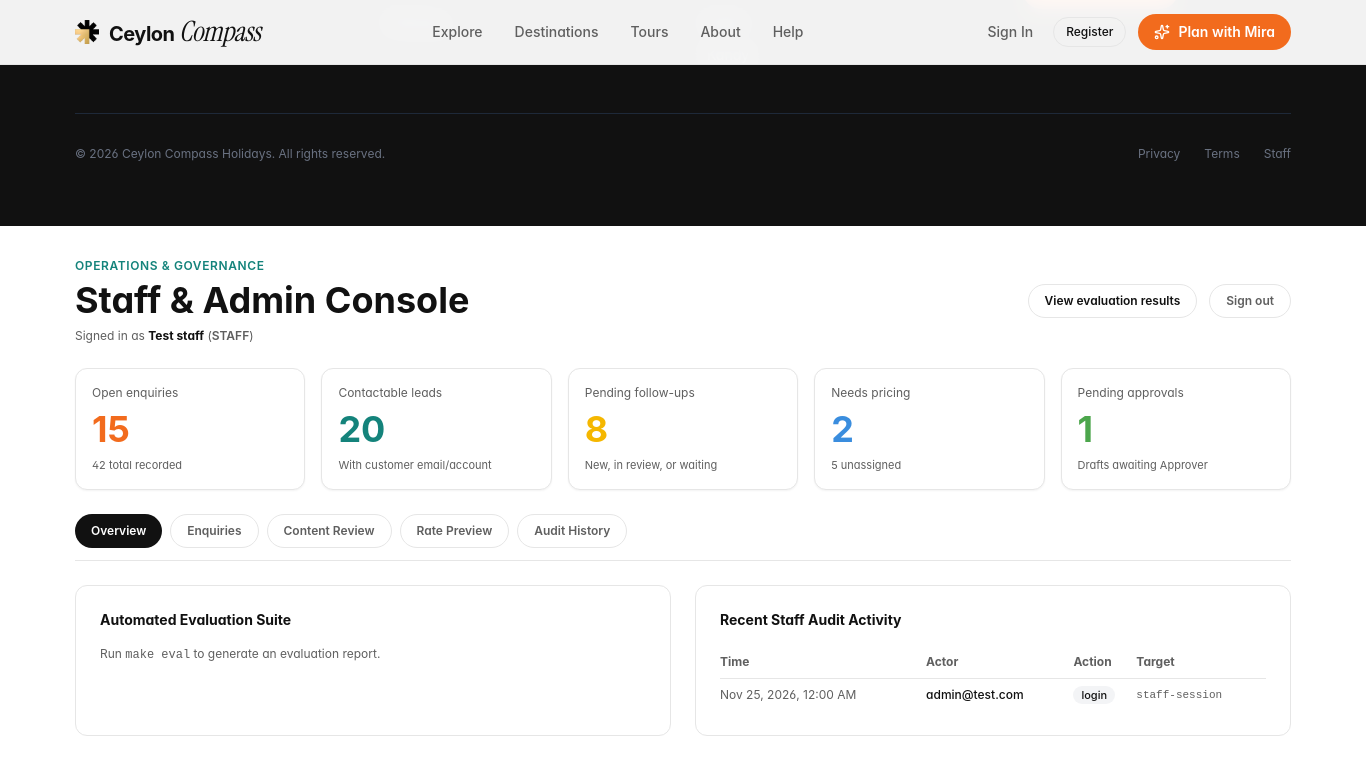
Scenario: StaffConsole Read-Only Rate Preview › runs read-only preview and displays verified total with preview-only disclaimer
(page scrolled)
Click the button "Rate Preview": (454, 531) [400,514,509,548]
(page scrolled)
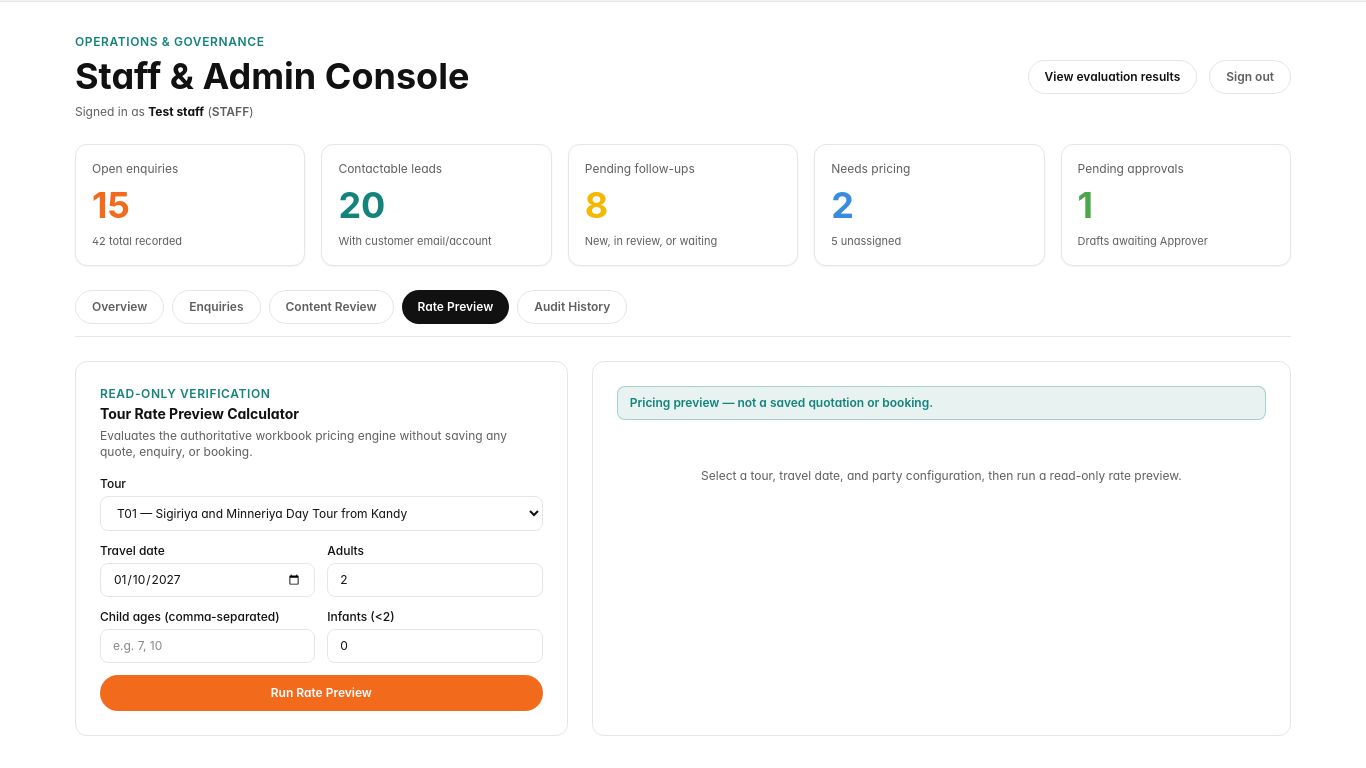
Expected: the text "Pricing preview — not a saved quotation or booking." is shown, [617,386,1266,420]
Click the button "Run Rate Preview": (321, 693) [100,675,543,711]
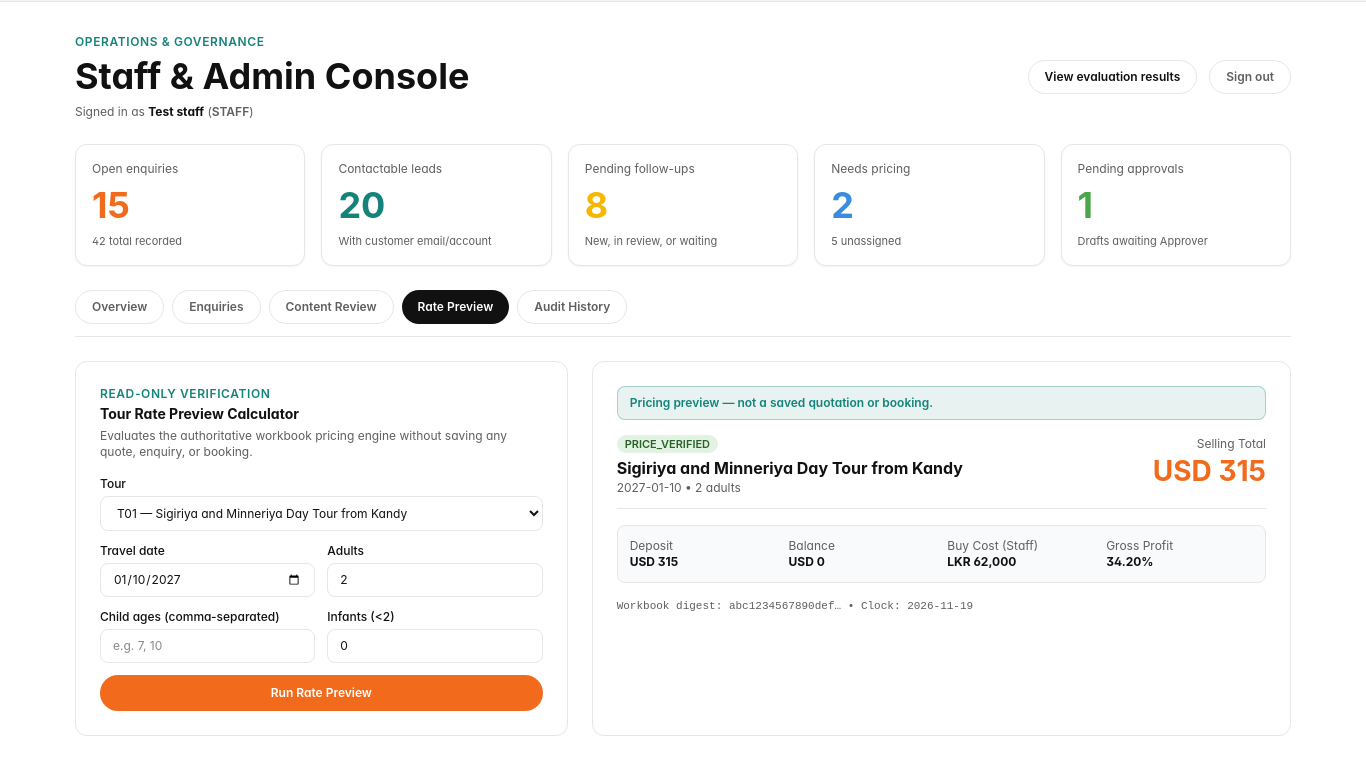
Expected: the text "PRICE_VERIFIED" is shown, [617,435,718,453]
